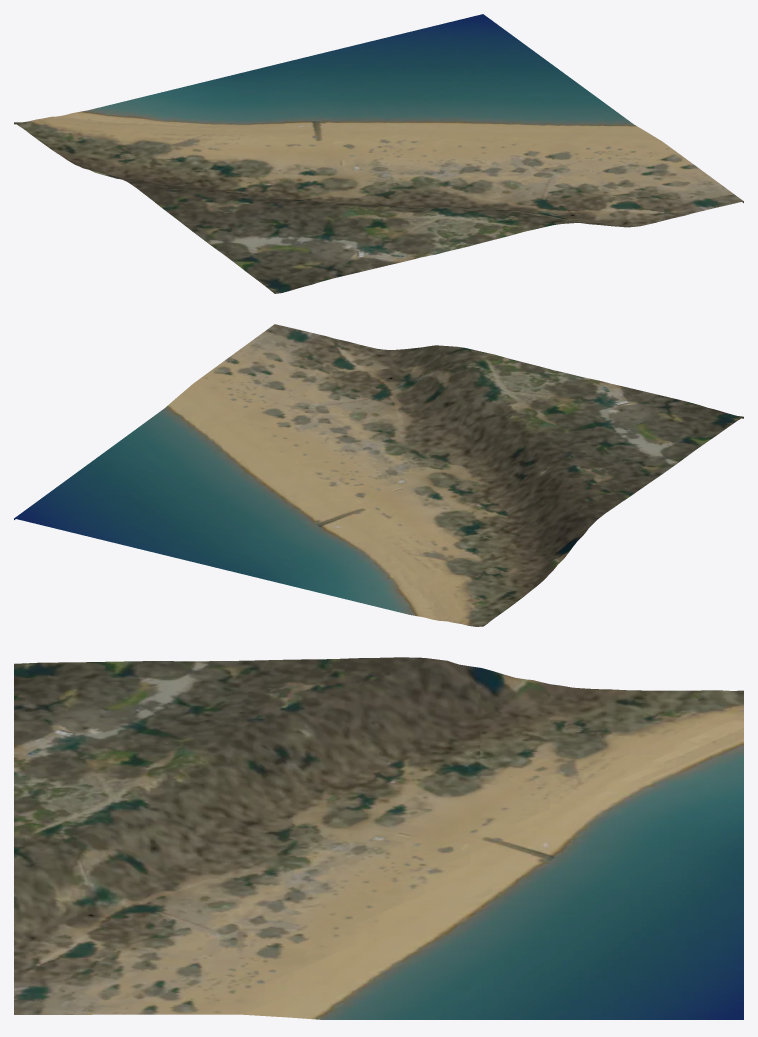
3 views of the same model, one above another, from view 1: azimuth 30°, elevation 25°; view 2: azimuth 150°, elevation 25°; view 3: azimuth 270°, elevation 25° (orthographic). The views are drawn at different scales.
Bounding box in the file's own units: 250 × 16.32 × 241.
1 material, 1 textured.
